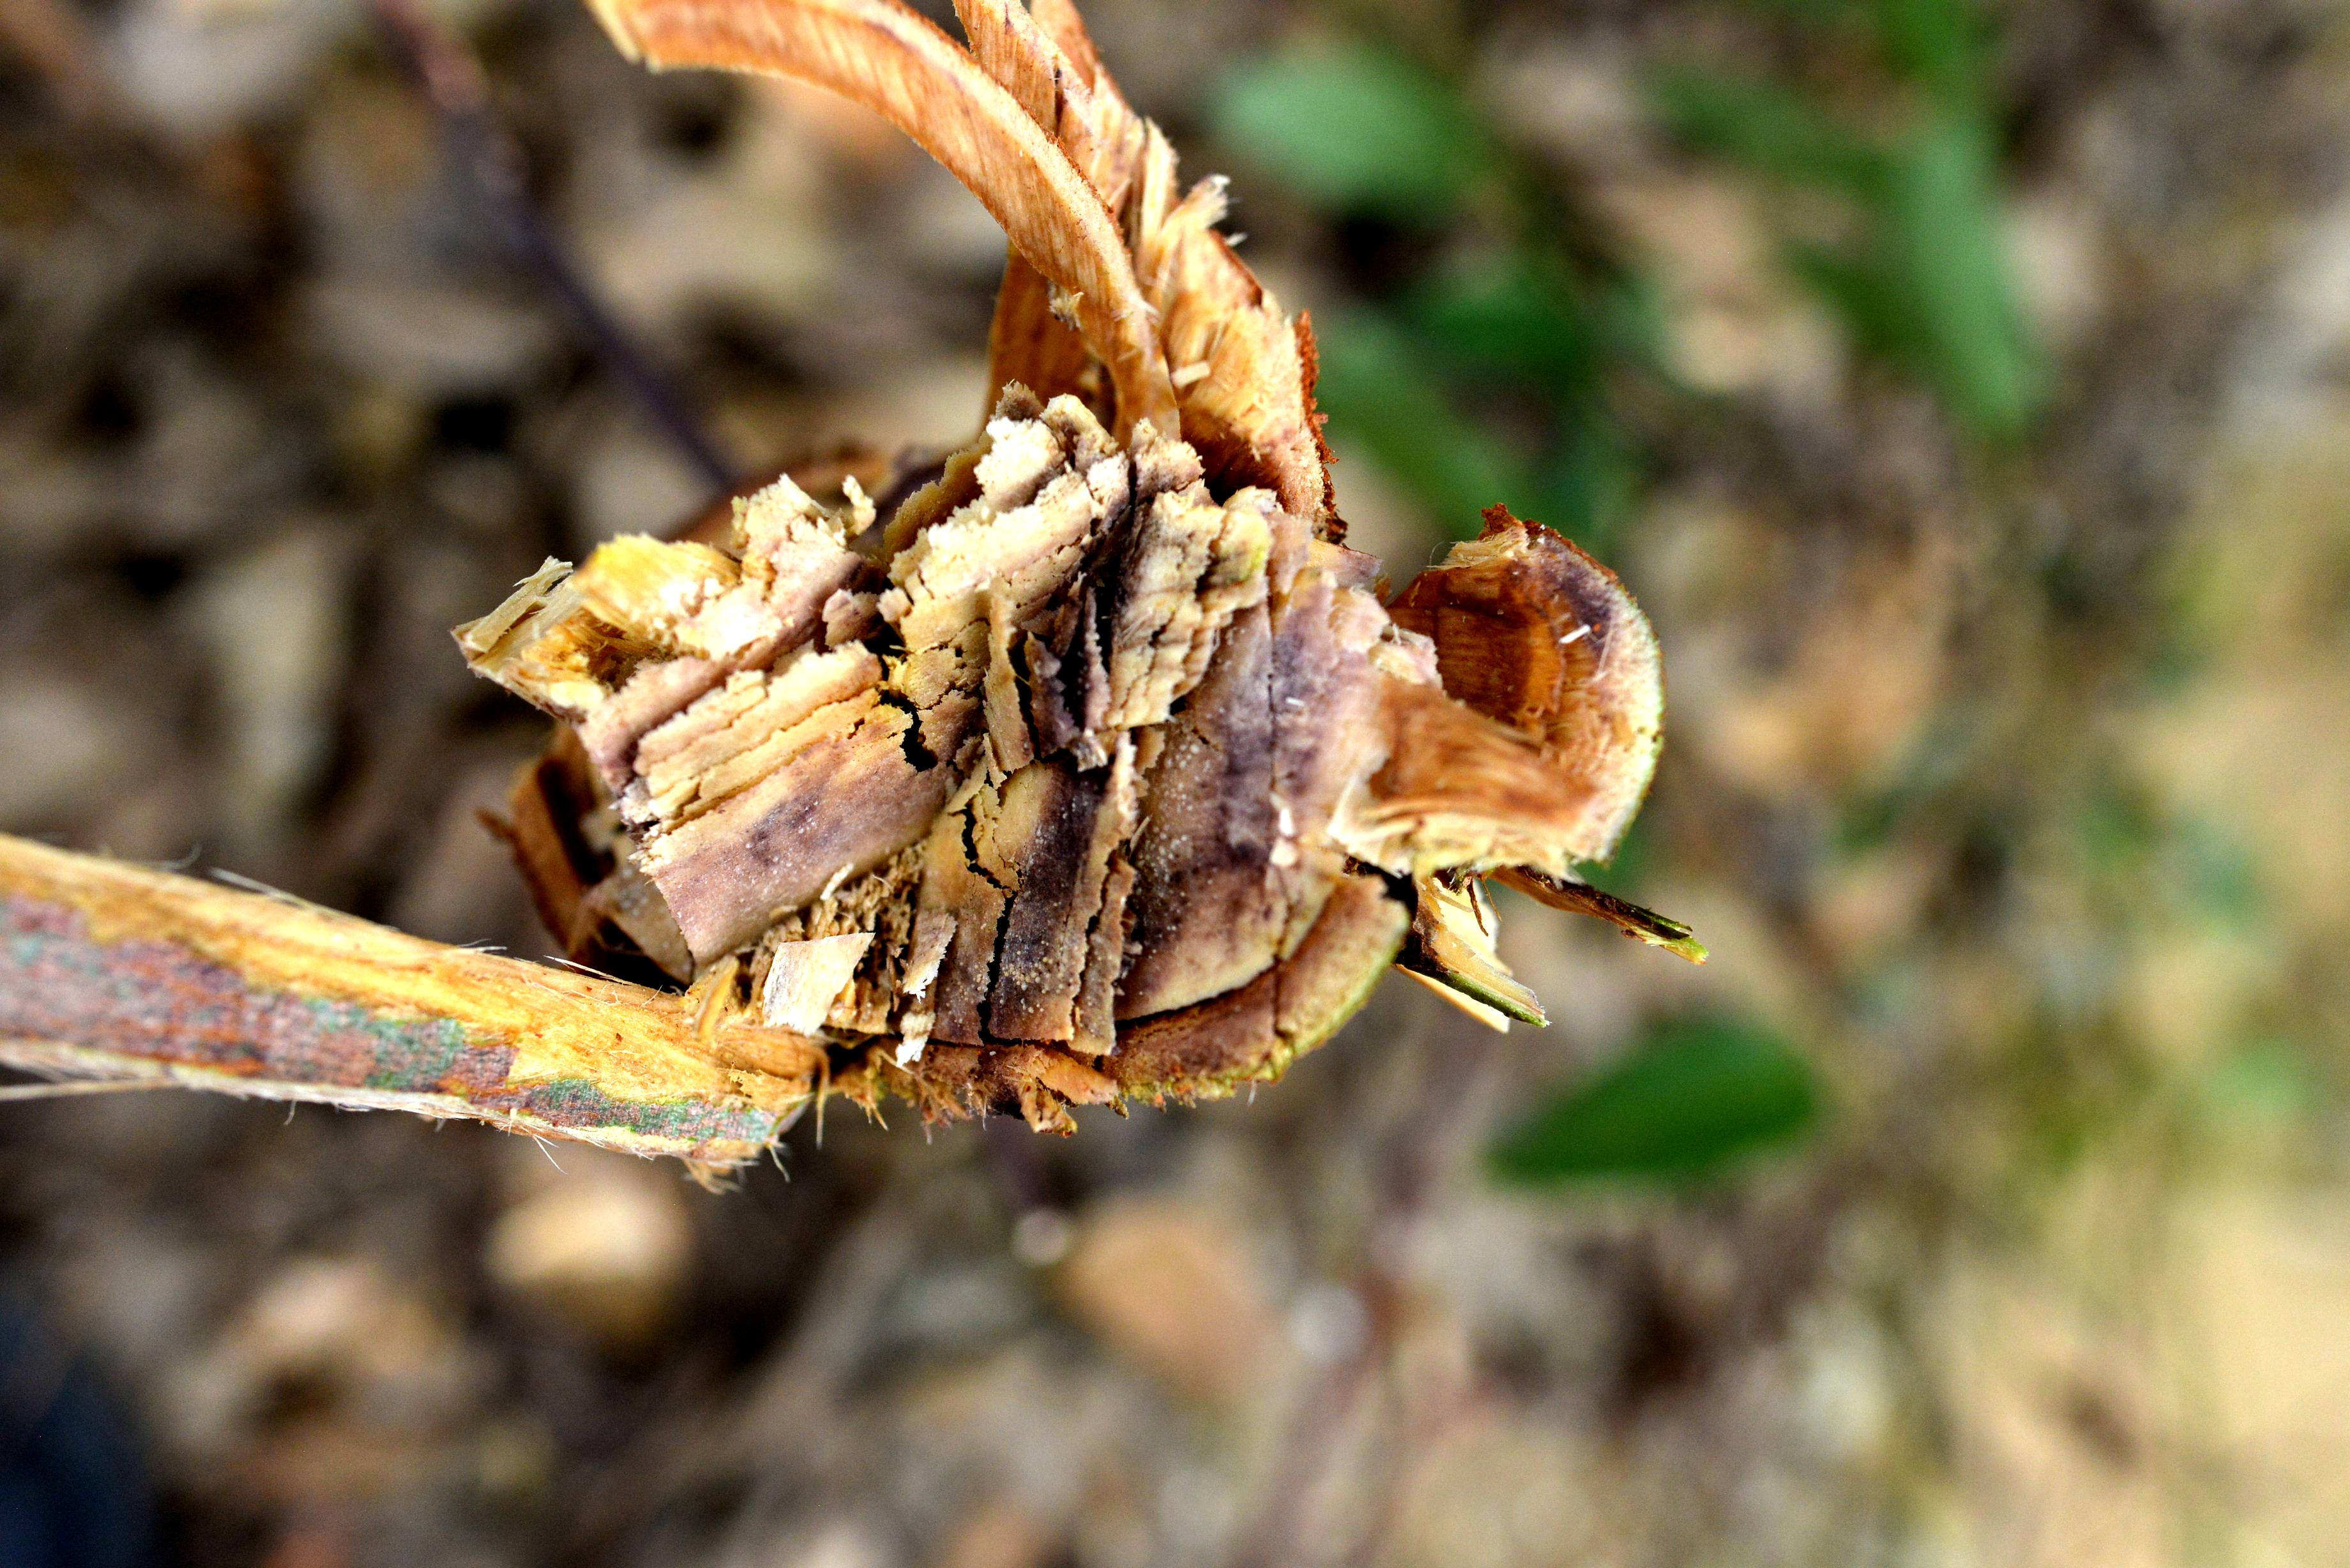Ralstonia: (952, 651, 1246, 1027), (740, 782, 838, 915)
